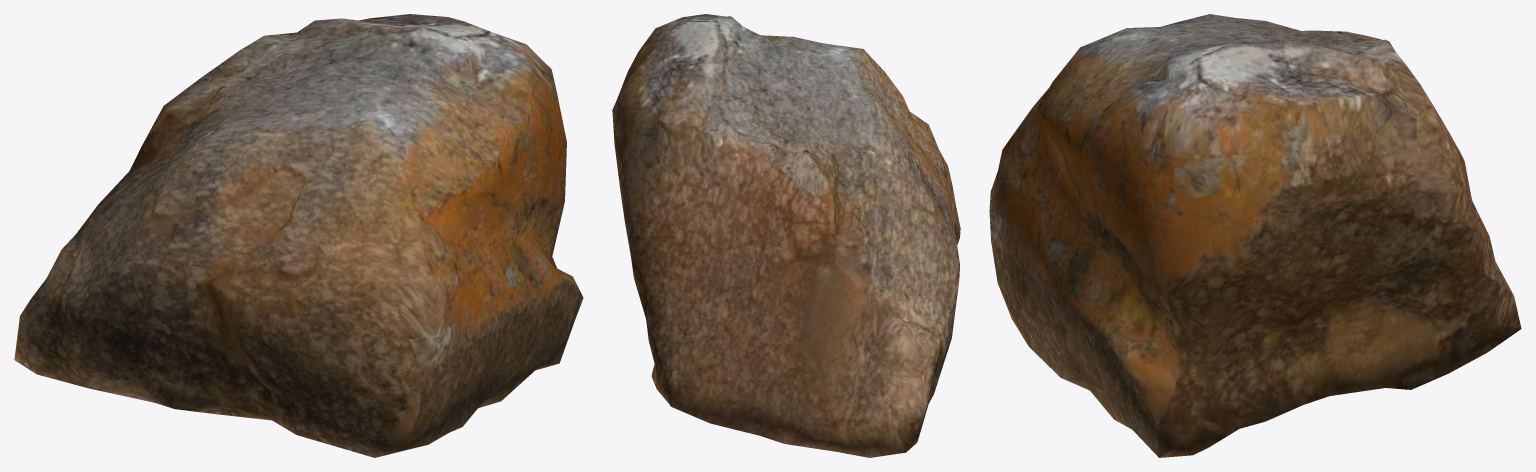
File: roche_brune.glb
3 views of the same model, side by side, from view 1: azimuth 30°, elevation 25°; view 2: azimuth 150°, elevation 25°; view 3: azimuth 270°, elevation 25° (orthographic). The views are drawn at different scales.
Visible parts, largest first — view 1: roche2_corps; view 2: roche2_corps; view 3: roche2_corps.
Part boxes in pixels (bbox=[...]): roche2_corps: bbox=[14, 14, 583, 457]; roche2_corps: bbox=[612, 14, 960, 457]; roche2_corps: bbox=[989, 14, 1521, 457].
Size of the model in its own units: 2.51 by 1.88 by 2.49.
Materials: 1 (1 with a texture image).
